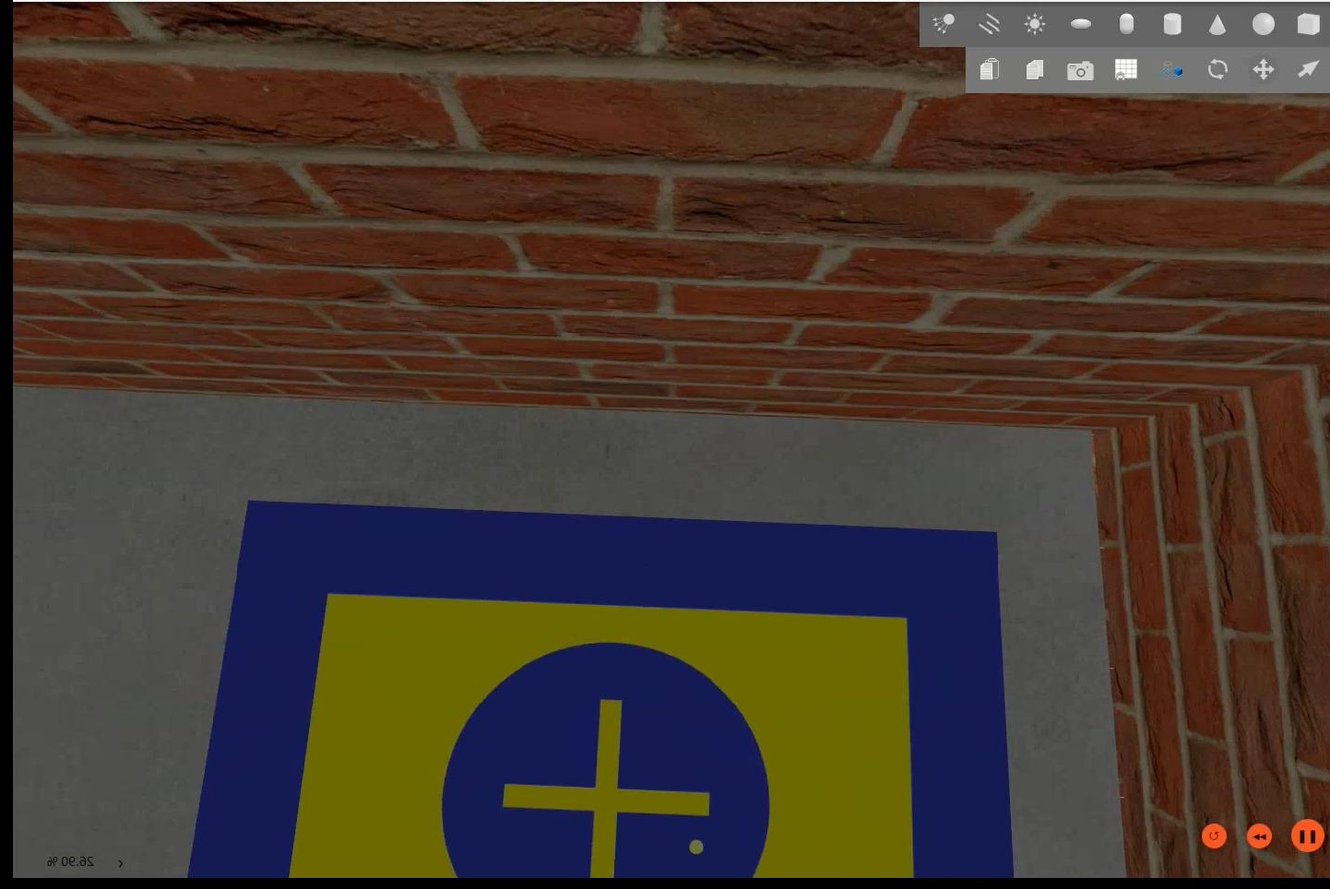large_base: (185, 498, 1012, 880)
